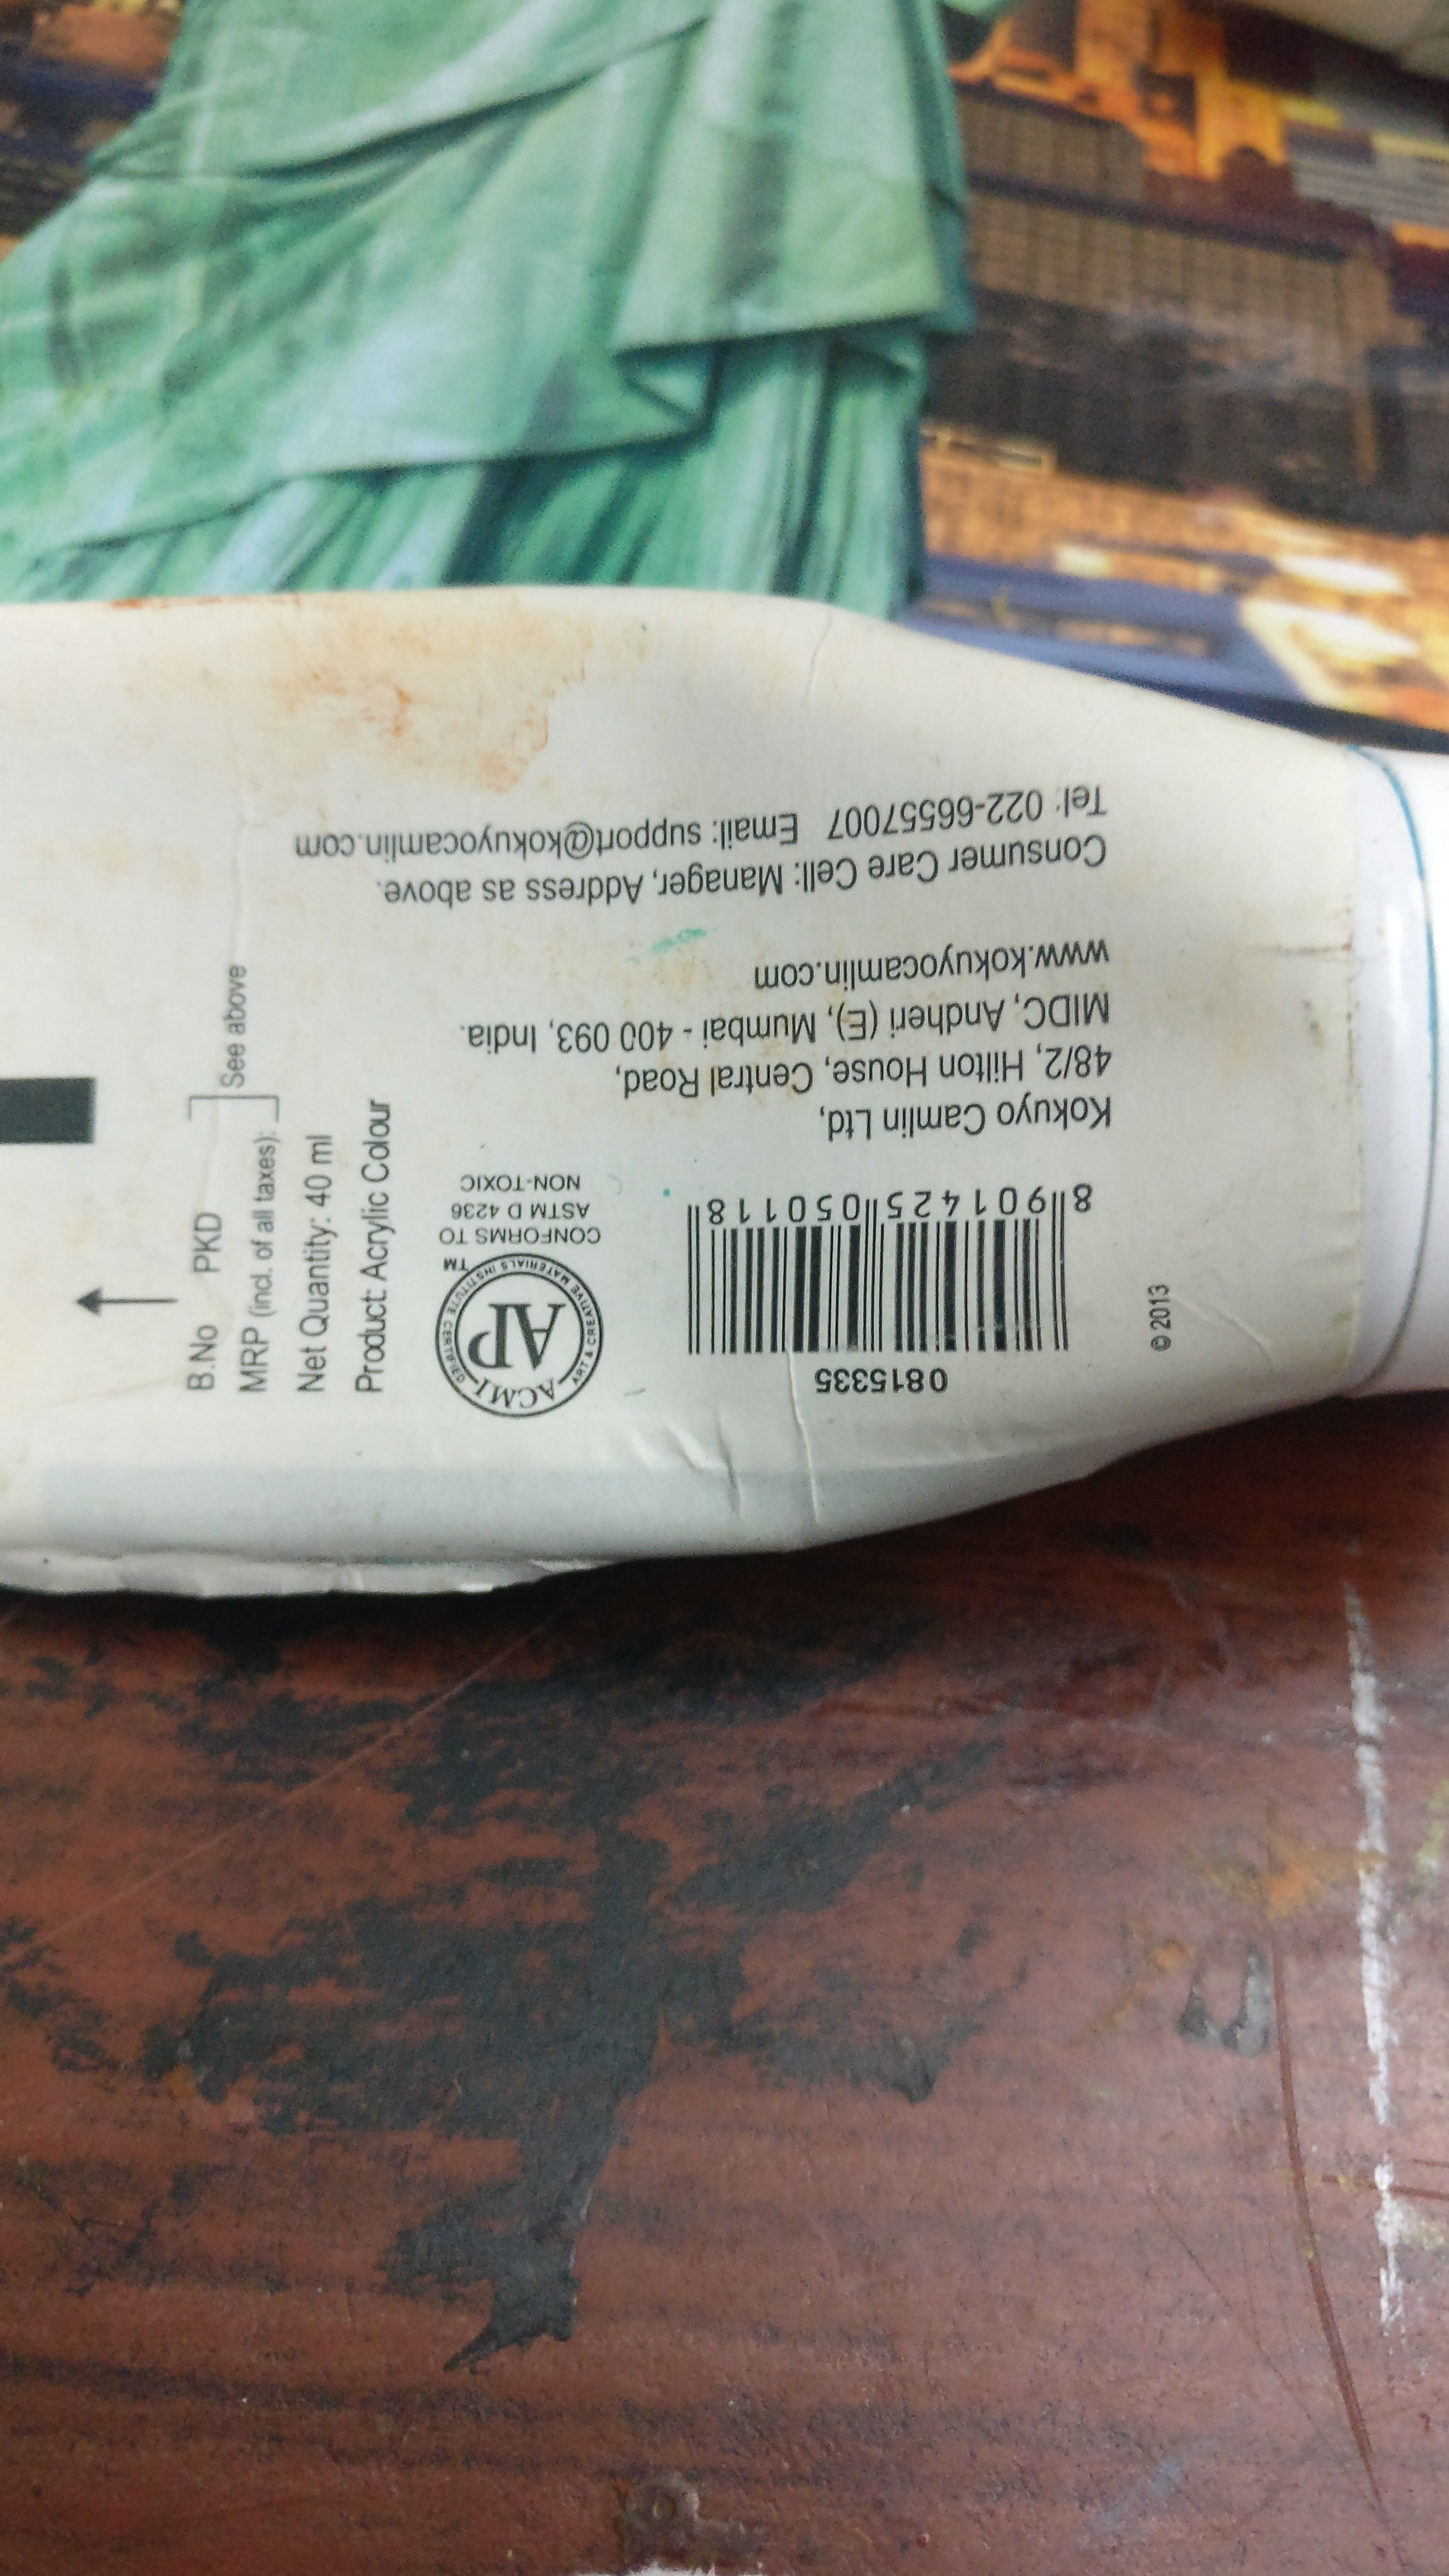barcode: (648, 1155, 1104, 1433)
